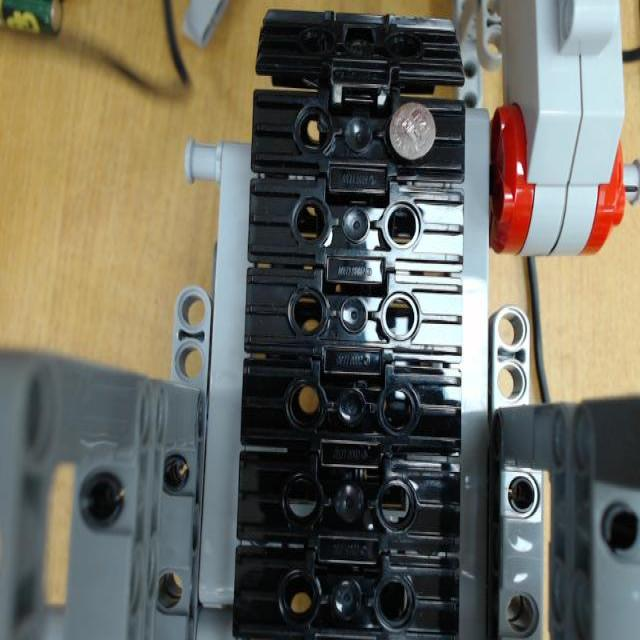COIN: (388, 100, 440, 168)
